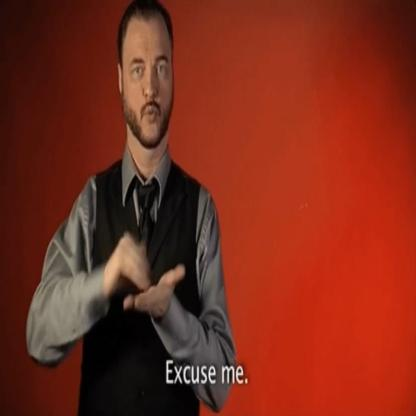ExcuseMe: (25, 0, 237, 416)
